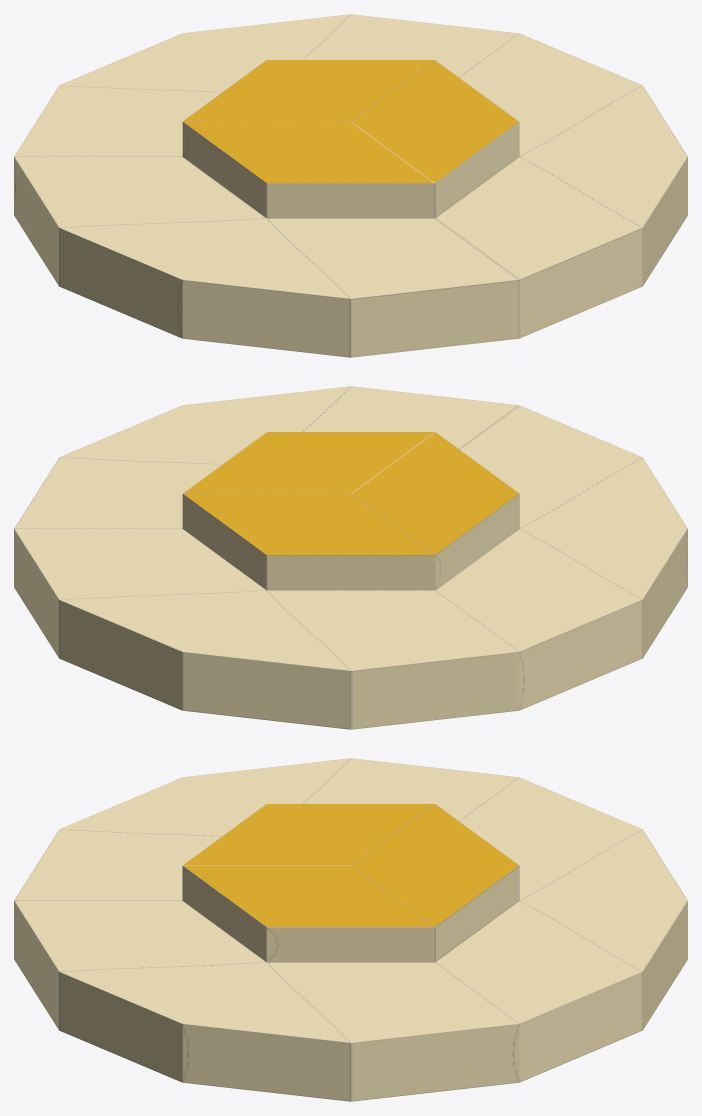
The model's file is EggFire.fbx.
3 renders of one model, top to bottom at view 1: azimuth 30°, elevation 25°; view 2: azimuth 150°, elevation 25°; view 3: azimuth 270°, elevation 25°, orthographic.
Visible parts, largest first — view 1: pDisc1; view 2: pDisc1; view 3: pDisc1.
Part boxes in pixels (x1,y1,x2,y2): pDisc1: [14, 14, 687, 357]; pDisc1: [14, 386, 687, 729]; pDisc1: [14, 758, 687, 1101].
Size of the model in its own units: 2 by 0.307 by 2.
